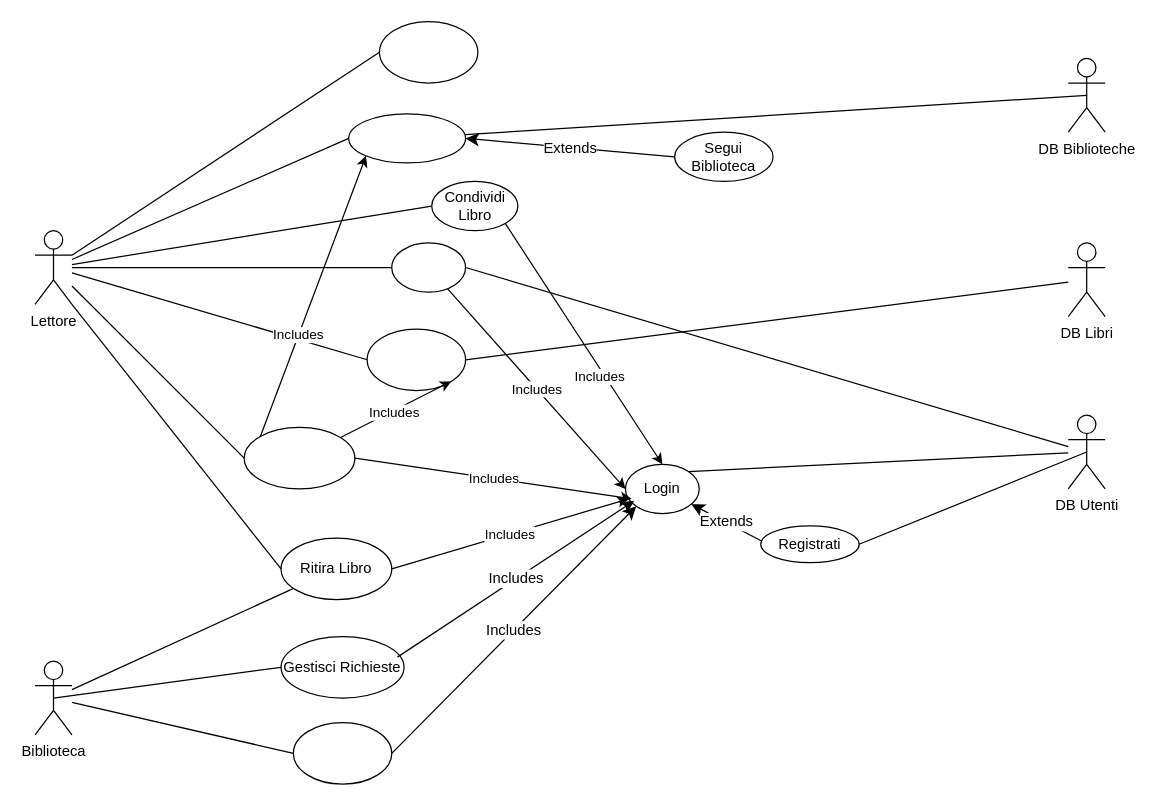
Some shapes in this 1156 by 806 pixel diagram are drawn without their labels. Each missing label, with the centre of its shape:
Aggiungi Amico: (x=428, y=267)
Cerca Biblioteca: (x=406, y=138)
Cerca Libro: (x=416, y=359)
Gestisci Libreria Personale: (x=428, y=51)
Prenota Libro: (x=299, y=457)
Pubblica Annuncio: (x=342, y=752)
